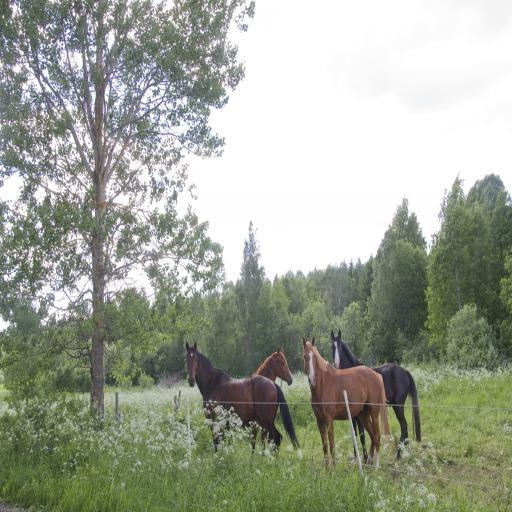horse: (184, 340, 302, 461), (303, 336, 392, 476), (330, 328, 420, 460), (228, 346, 294, 466)
